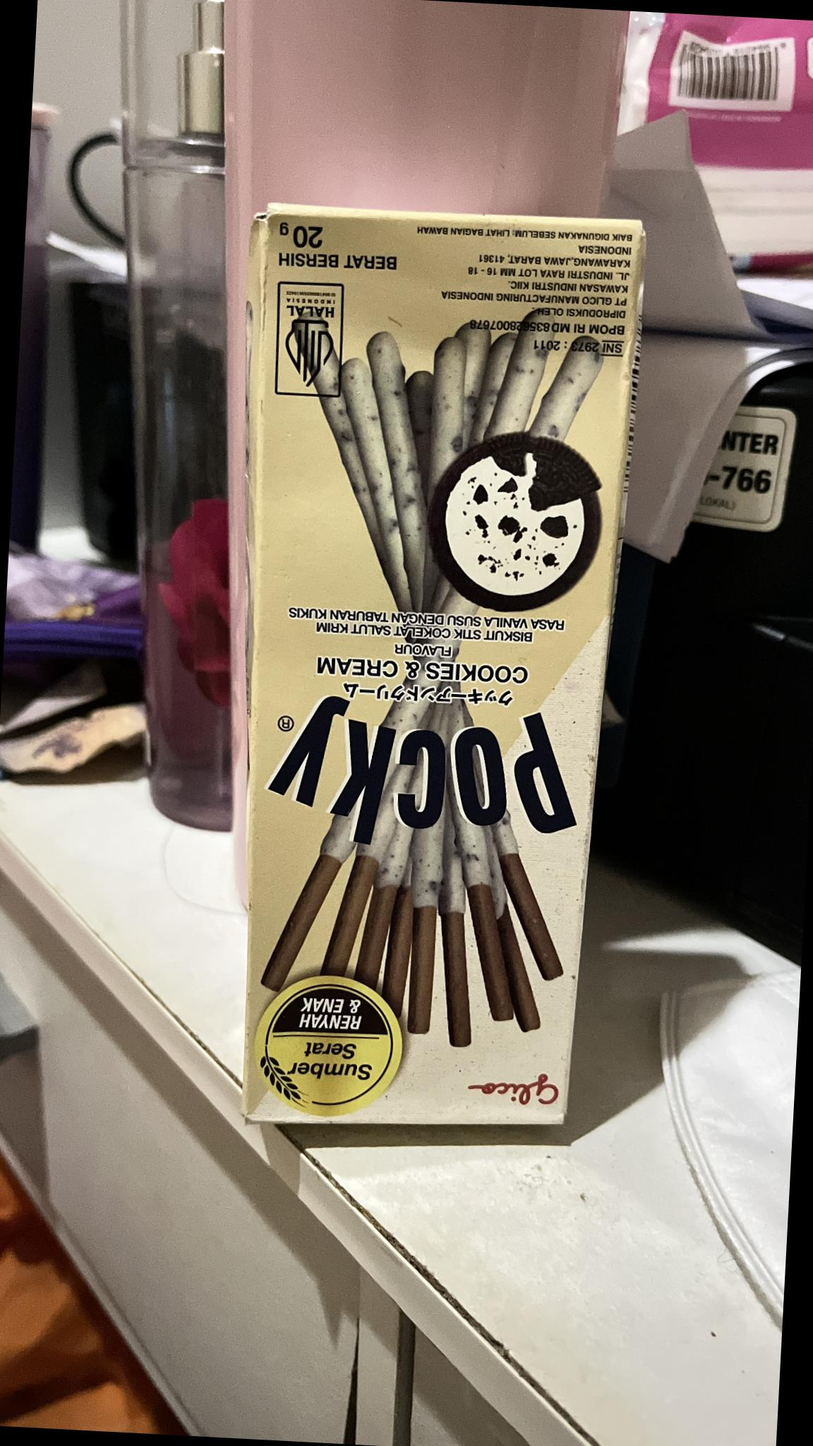Kertas: (240, 203, 639, 1135)
